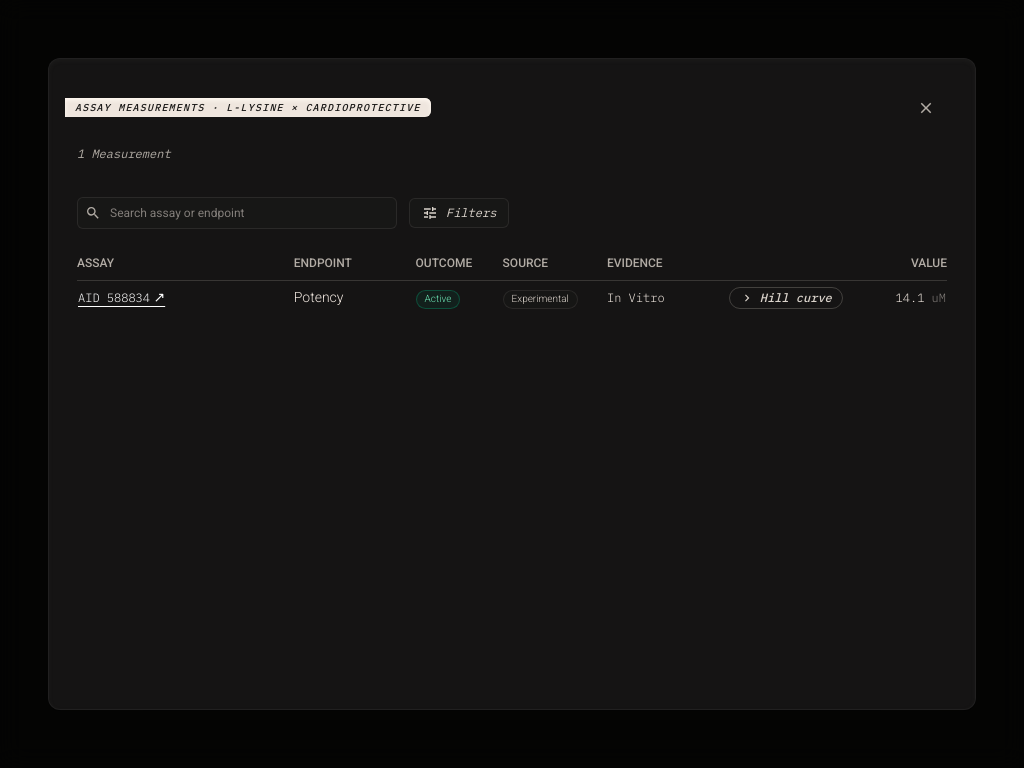
Test: Hill-fit panel AC50 › prints the AC50 in the row's unit, agreeing with the row
Click the button with aria-label "show hill curve" at (786, 298), box [729,287,843,309]
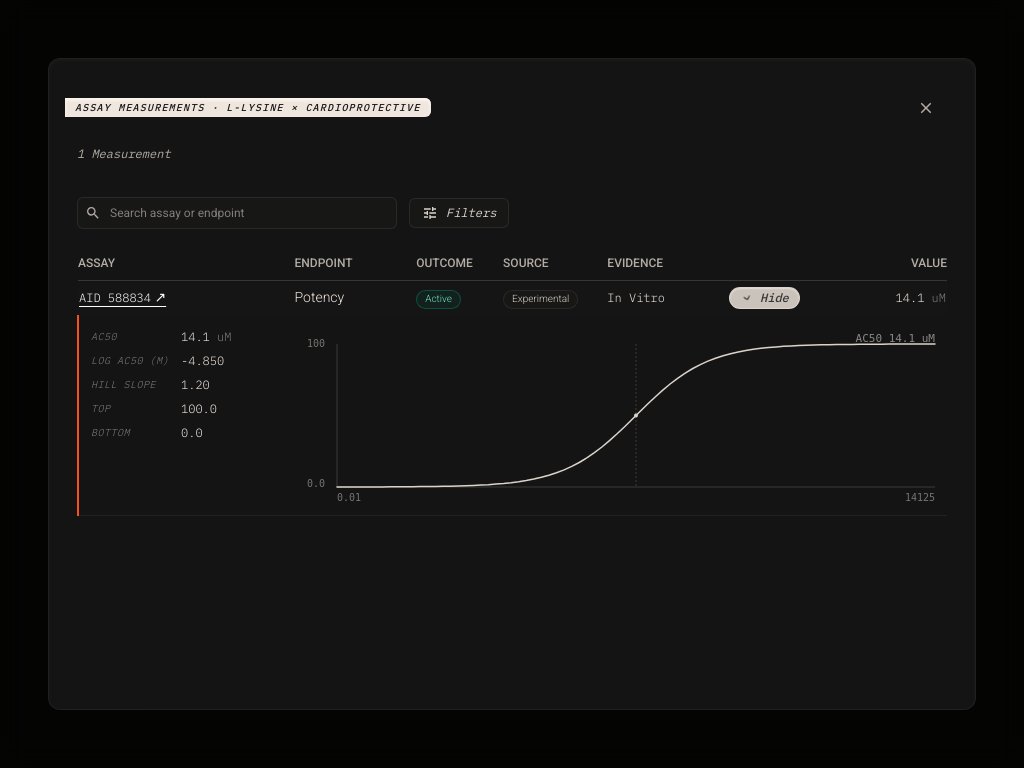
Expected: the element showing "14.1 uM" in the row of "AID 588834" is shown, [896,290,946,306]
Expected: the text "AC50" is shown, [91,330,117,343]
